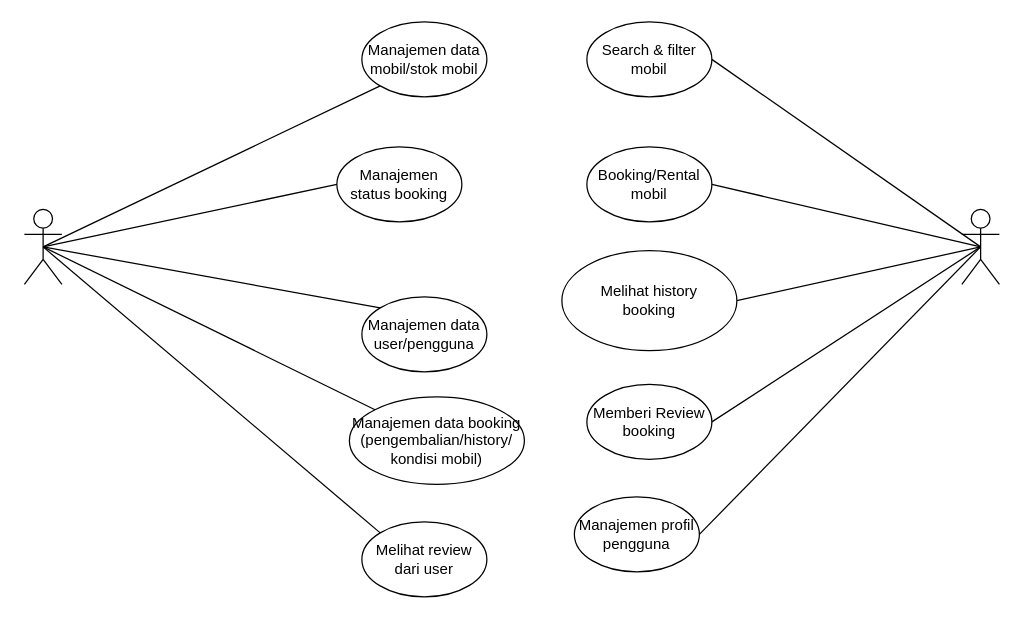
Image size: 1021x619. Some labels were removed from this diagram. The box of each missing label's shape, as (x1, y1, x2, y2) in pixels:
Admin: (23, 208, 62, 284)
User: (961, 208, 999, 284)
